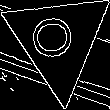O_E: (33, 17, 84, 65)
